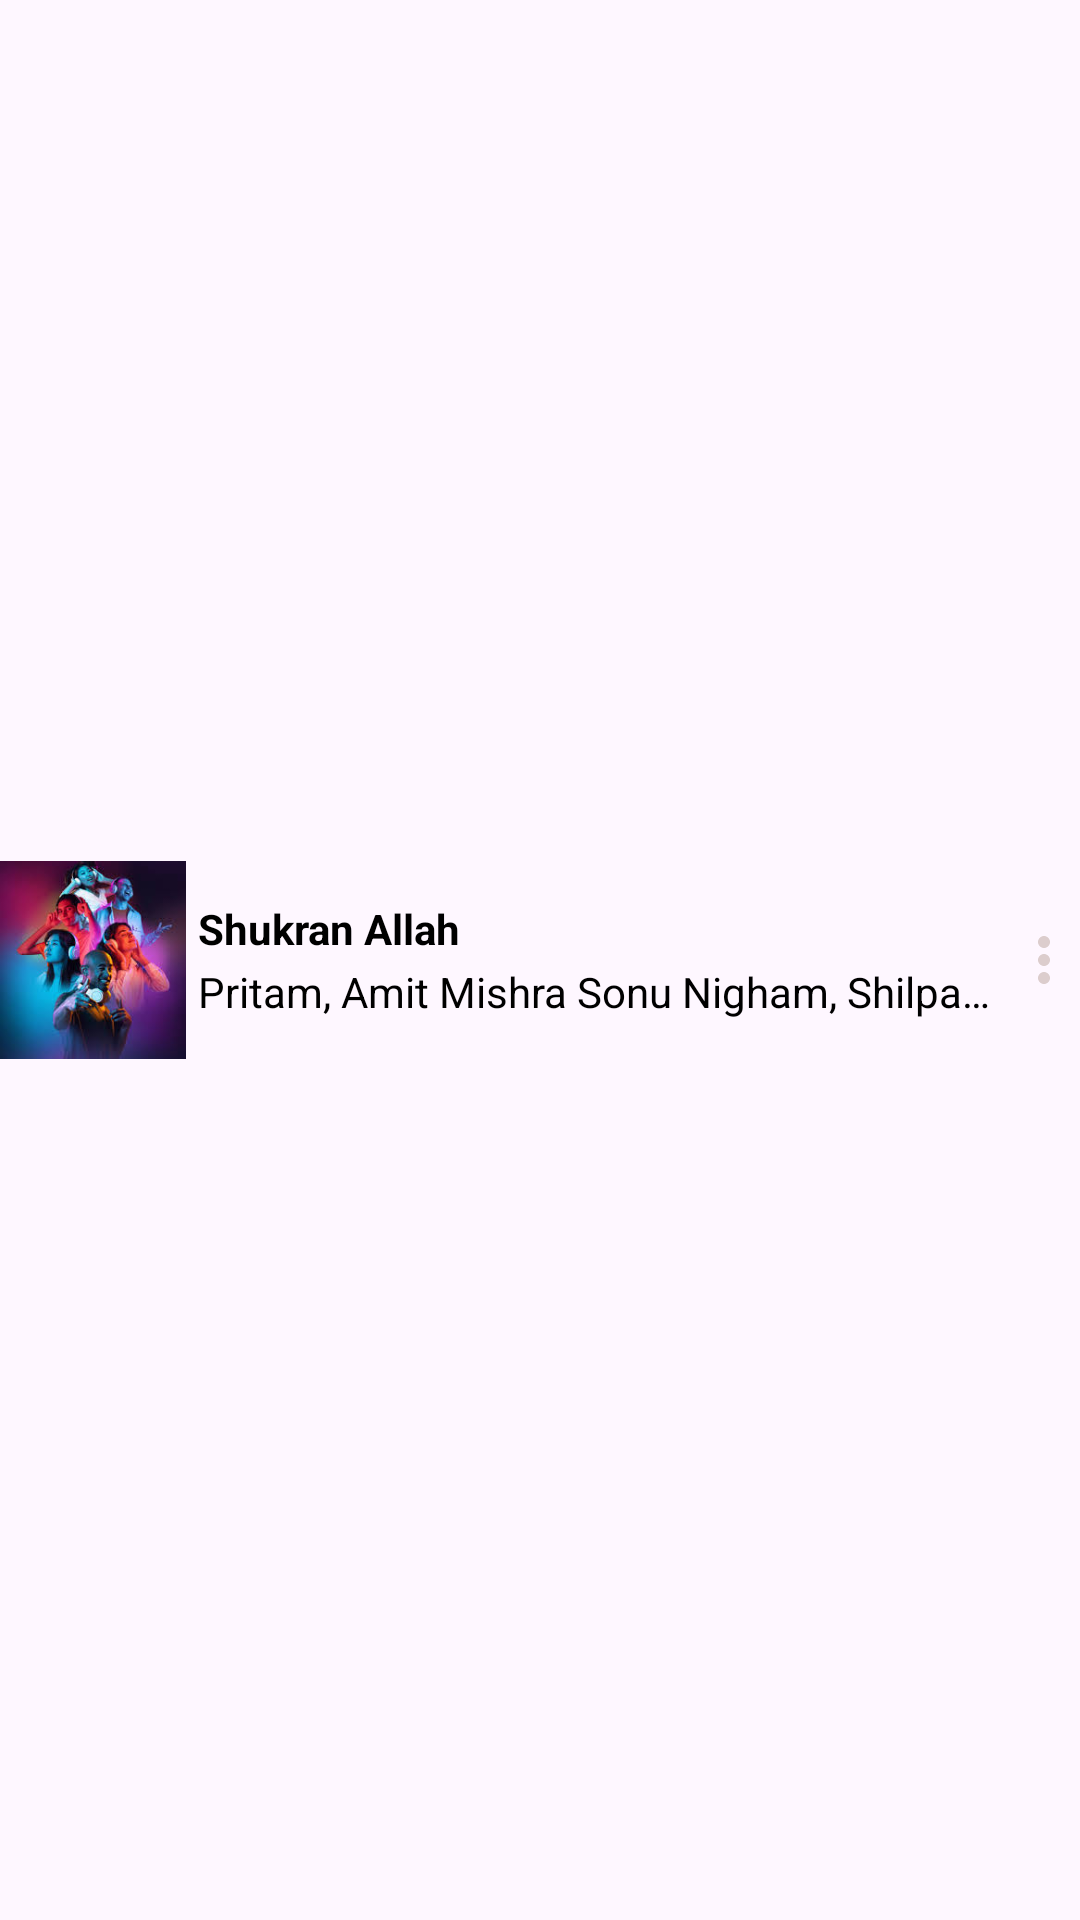

Icons on this 1080x1920 Android screen, each with its box as (x1, y1, x2, y2):
more vert: (1038, 936, 1050, 984)
